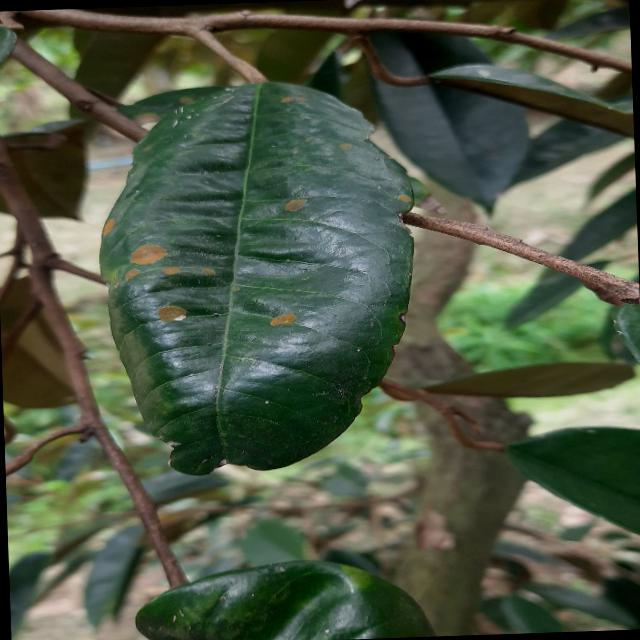Algal Leaf Spot: (90, 70, 424, 476)
